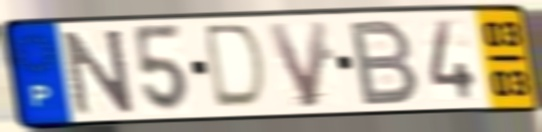4: (426, 17, 480, 103)
5: (129, 23, 192, 118)
B: (347, 16, 423, 109)
D: (203, 21, 270, 113)
N: (59, 26, 138, 118)
V: (263, 17, 332, 111)
